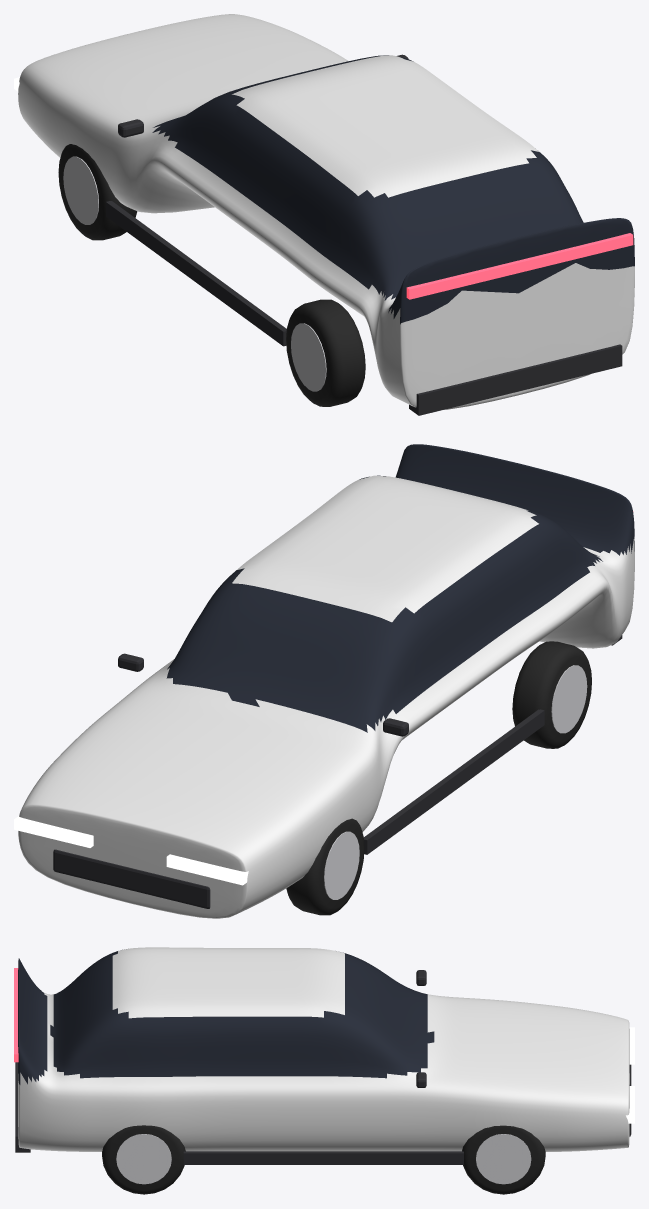
The model's file is car_estate.glb.
3 renders of one model, top to bottom at view 1: azimuth 30°, elevation 25°; view 2: azimuth 150°, elevation 25°; view 3: azimuth 270°, elevation 25°, orthographic. The views are drawn at different scales.
Parts seen in each view (by area): view 1: paint, glass, trim, wheel_RL, wheel_FL, lamp_r; view 2: paint, glass, trim, wheel_RL, wheel_FL, lamp_f; view 3: paint, glass, trim, wheel_RR, wheel_FR, lamp_f, lamp_r.
Boxes of the visible parts, x1=… form: paint: x1=18, y1=14, x2=634, y2=409; glass: x1=152, y1=55, x2=634, y2=324; trim: x1=106, y1=54, x2=622, y2=415; wheel_RL: x1=286, y1=299, x2=365, y2=406; wheel_FL: x1=58, y1=144, x2=137, y2=240; lamp_r: x1=406, y1=233, x2=633, y2=299; paint: x1=18, y1=475, x2=634, y2=918; glass: x1=166, y1=444, x2=634, y2=732; trim: x1=53, y1=635, x2=622, y2=908; wheel_RL: x1=512, y1=641, x2=591, y2=748; wheel_FL: x1=286, y1=818, x2=364, y2=915; lamp_f: x1=14, y1=816, x2=248, y2=885; paint: x1=18, y1=947, x2=629, y2=1151; glass: x1=18, y1=949, x2=434, y2=1084; trim: x1=15, y1=970, x2=631, y2=1164; wheel_RR: x1=102, y1=1125, x2=185, y2=1194; wheel_FR: x1=462, y1=1125, x2=545, y2=1194; lamp_f: x1=626, y1=1027, x2=634, y2=1123; lamp_r: x1=14, y1=968, x2=18, y2=1062.
Size of the model in its own units: 2.06 by 1.48 by 4.87.
